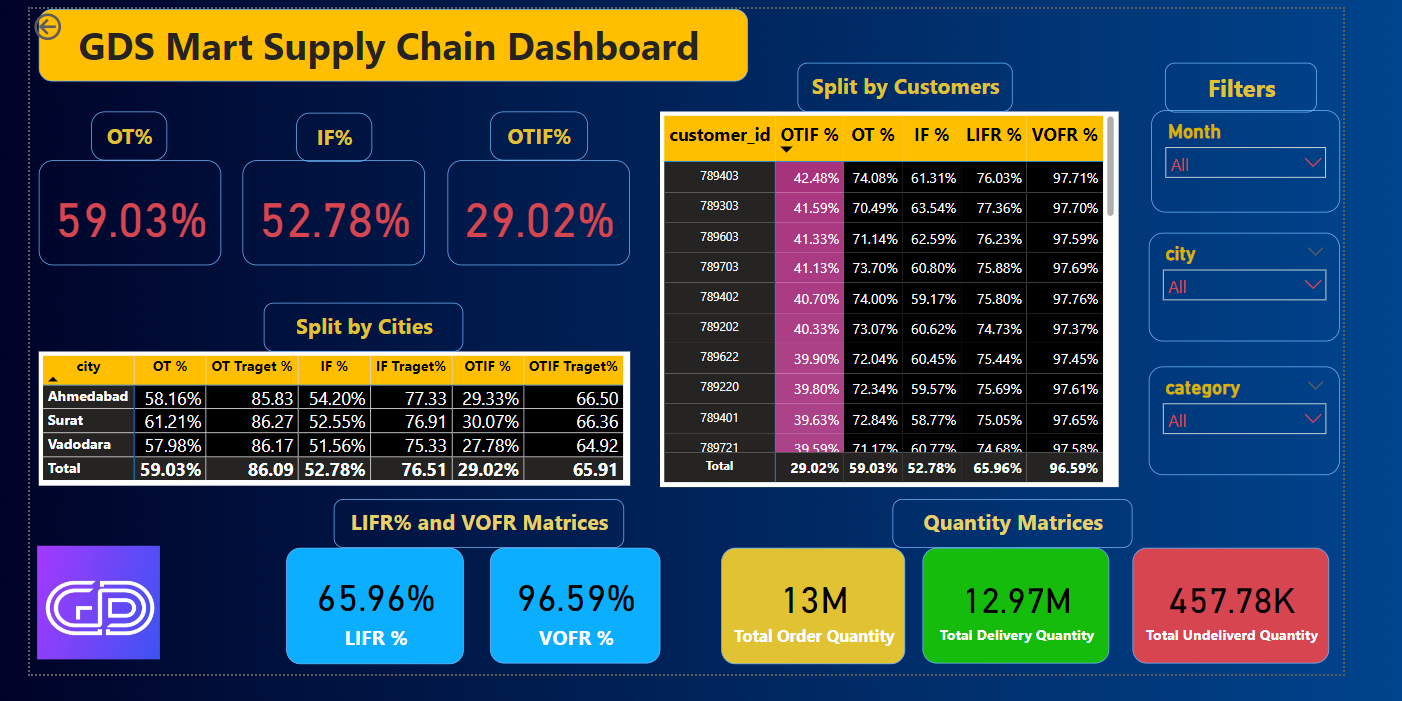

This screenshot's page, from the dashboard's own definition file:
{"tool":"powerbi","page":{"name":"Page 1","canvas":[1480,750],"ordinal":0},"visuals":[{"type":"textbox","box":[9.8,0,799.5,81.9],"z":0},{"type":"card","fields":{"Values":["All Measure.OT %"]},"box":[9.8,169.9,205.4,118.6],"z":1000},{"type":"card","fields":{"Values":["All Measure.IF %"]},"box":[239.6,169.9,205.4,118.6],"z":2000},{"type":"card","fields":{"Values":["All Measure.OTIF %"]},"box":[470.6,169.9,205.4,118.6],"z":3000},{"type":"textbox","box":[69.7,115.1,85.6,55],"z":4000},{"type":"textbox","box":[299.5,116.4,85.6,55],"z":5000},{"type":"textbox","box":[518.3,115.1,110,55],"z":6000},{"type":"pivotTable","fields":{"Rows":["dim_customers.city"],"Values":["All Measure.OT %","All Measure.OT Traget %","All Measure.IF %","All Measure.IF Traget%","All Measure.OTIF %","All Measure.OTIF Traget%"]},"box":[9.8,386.3,666.2,151.6],"z":7000},{"type":"actionButton","box":[0,0,100,40],"z":8000},{"type":"textbox","box":[262.8,331.3,224.9,55],"z":9000},{"type":"pivotTable","fields":{"Rows":["dim_customers.customer_id"],"Values":["All Measure.OTIF %","All Measure.OT %","All Measure.IF %","All Measure.LIFR %","All Measure.VOFR %"]},"box":[710.2,114.9,517.1,423],"z":10000},{"type":"textbox","box":[864.2,59.9,242,55],"z":11000},{"type":"card","fields":{"Values":["All Measure.LIFR %"]},"box":[289.1,607.3,200,130.9],"z":12000},{"type":"card","fields":{"Values":["All Measure.VOFR %"]},"box":[517.9,607.7,192.3,130.8],"z":13000},{"type":"textbox","box":[342.3,552.6,326.9,55.1],"z":14000},{"type":"textbox","box":[971.8,552.1,270.4,54.9],"z":15000},{"type":"card","fields":{"Values":["All Measure.total_order_quantity"]},"box":[778.2,607.3,207.3,130.9],"z":16000},{"type":"card","fields":{"Values":["All Measure.total_delivery_quantity"]},"box":[1005.1,607.7,210.3,130.8],"z":17000},{"type":"card","fields":{"Values":["All Measure.Undeliverd_Quantity"]},"box":[1242.3,607.7,221.8,130.8],"z":18000},{"type":"slicer","fields":{"Values":["dim_date.date.Variation.Date Hierarchy.Month"]},"box":[1263.4,114.1,212.7,115.5],"z":19000},{"type":"slicer","fields":{"Values":["dim_customers.city"]},"box":[1260.6,252.1,215.5,122.5],"z":20000},{"type":"textbox","box":[1278.2,60,170.9,56.4],"z":21000},{"type":"image","box":[0,600,154.9,138],"z":22000},{"type":"slicer","fields":{"Values":["dim_products.category"]},"box":[1260.6,402.8,215.5,122.5],"z":23000}]}

Visuals, with their boxes in screenshot pixels (x1, y1, x2, y2), scaled from the page's 1480x750 canvas onto the 1402x701 screenshot:
textbox: (9, 0, 767, 77)
card - All Measure.OT %: (9, 159, 204, 270)
card - All Measure.IF %: (227, 159, 422, 270)
card - All Measure.OTIF %: (446, 159, 640, 270)
textbox: (66, 108, 147, 159)
textbox: (284, 109, 365, 160)
textbox: (491, 108, 595, 159)
pivotTable - dim_customers.city x All Measure.OT %: (9, 361, 640, 503)
actionButton: (0, 0, 95, 37)
textbox: (249, 310, 462, 361)
pivotTable - dim_customers.customer_id x All Measure.OTIF %: (673, 107, 1163, 503)
textbox: (819, 56, 1048, 107)
card - All Measure.LIFR %: (274, 568, 463, 690)
card - All Measure.VOFR %: (491, 568, 673, 690)
textbox: (324, 516, 634, 568)
textbox: (921, 516, 1177, 567)
card - All Measure.total_order_quantity: (737, 568, 934, 690)
card - All Measure.total_delivery_quantity: (952, 568, 1151, 690)
card - All Measure.Undeliverd_Quantity: (1177, 568, 1387, 690)
slicer - dim_date.date.Variation.Date Hierarchy.Month: (1197, 107, 1398, 215)
slicer - dim_customers.city: (1194, 236, 1398, 350)
textbox: (1211, 56, 1373, 109)
image: (0, 561, 147, 690)
slicer - dim_products.category: (1194, 376, 1398, 491)
